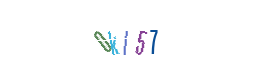0: (62, 0, 142, 80)
5: (100, 0, 180, 80)
7: (113, 0, 193, 80)
K: (82, 0, 162, 80)
L: (87, 0, 167, 80)
